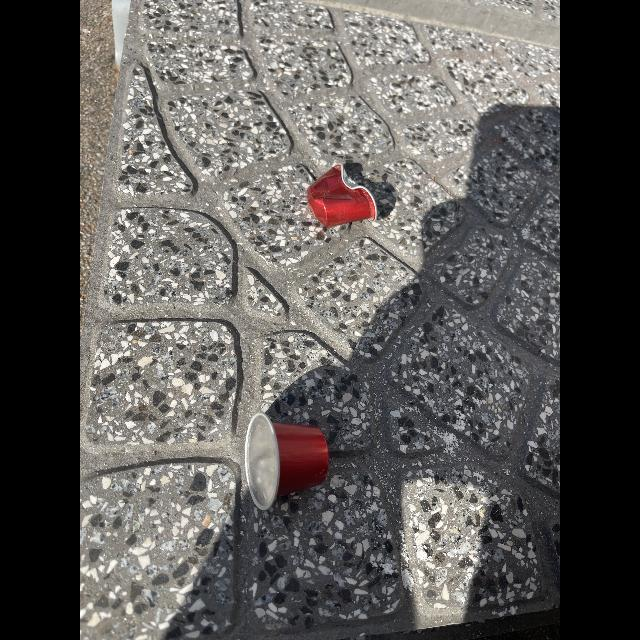damaged_capsule: (306, 152, 392, 232)
intact_capsule: (233, 406, 347, 518)
